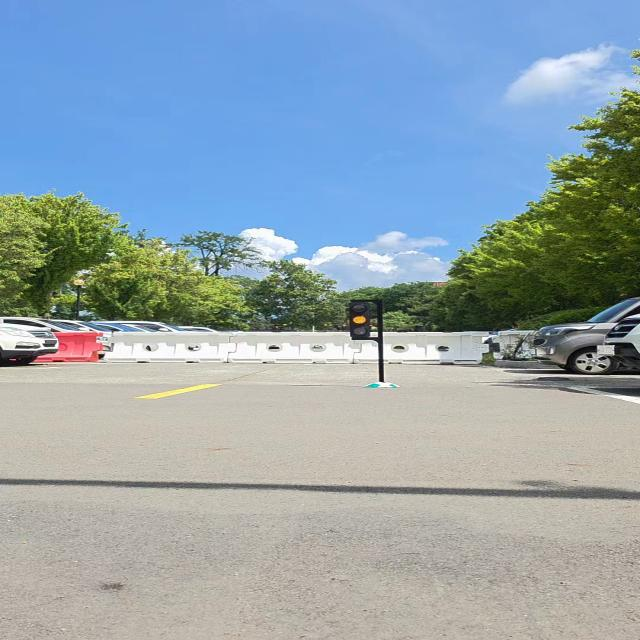yellow: (348, 302, 371, 338)
